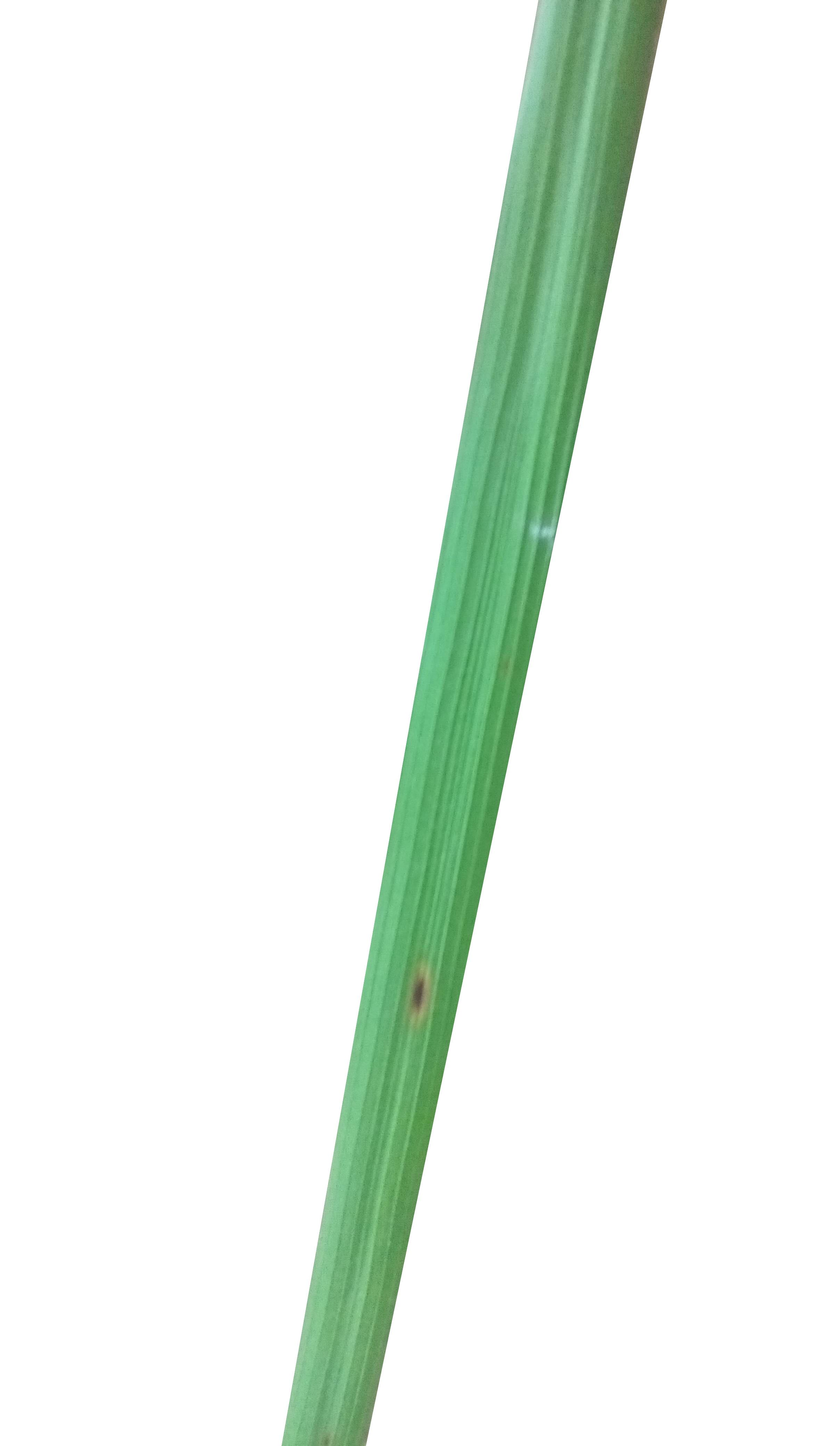Brown spot: (400, 970, 466, 1025)
